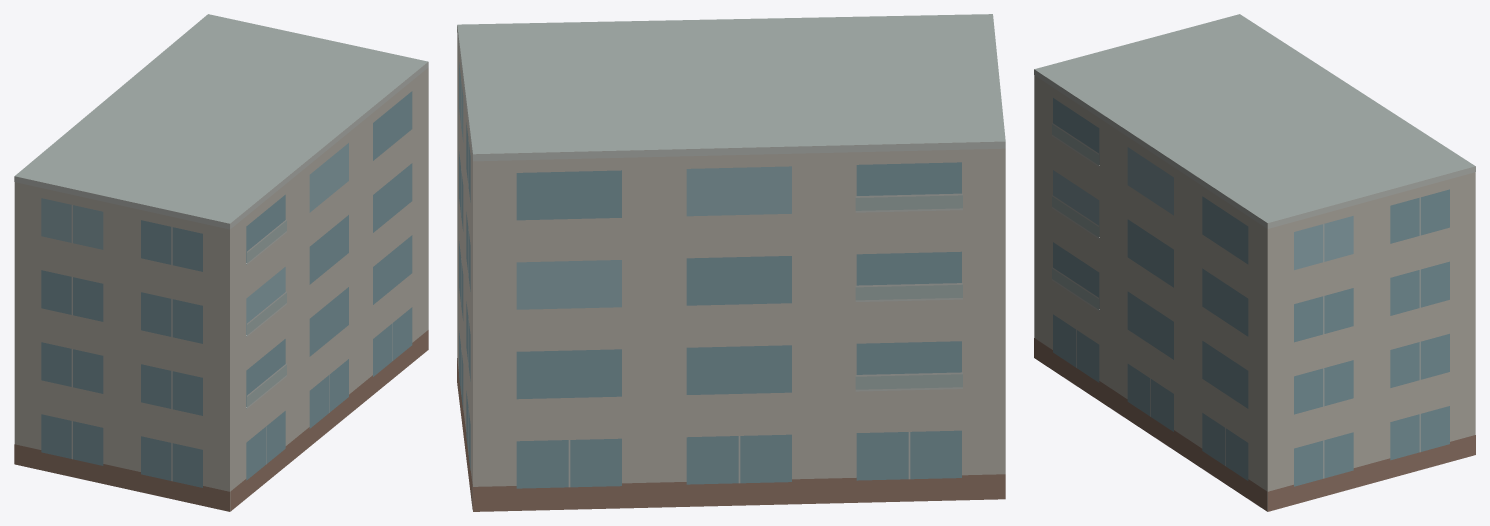
Rendered from survey-upis-32631154.glb.
3 views of the same model, side by side, from view 1: azimuth 30°, elevation 25°; view 2: azimuth 150°, elevation 25°; view 3: azimuth 270°, elevation 25° (orthographic). The views are drawn at different scales.
Visible parts, largest first — view 1: survey-upis-32631154.tmp; view 2: survey-upis-32631154.tmp; view 3: survey-upis-32631154.tmp.
Part boxes in pixels (left/top/right/bottom): survey-upis-32631154.tmp: left=14, top=14, right=428, bottom=511; survey-upis-32631154.tmp: left=457, top=14, right=1005, bottom=511; survey-upis-32631154.tmp: left=1034, top=14, right=1475, bottom=511.
Bounding box in the file's own units: 18.82 × 12.1 × 16.79.
